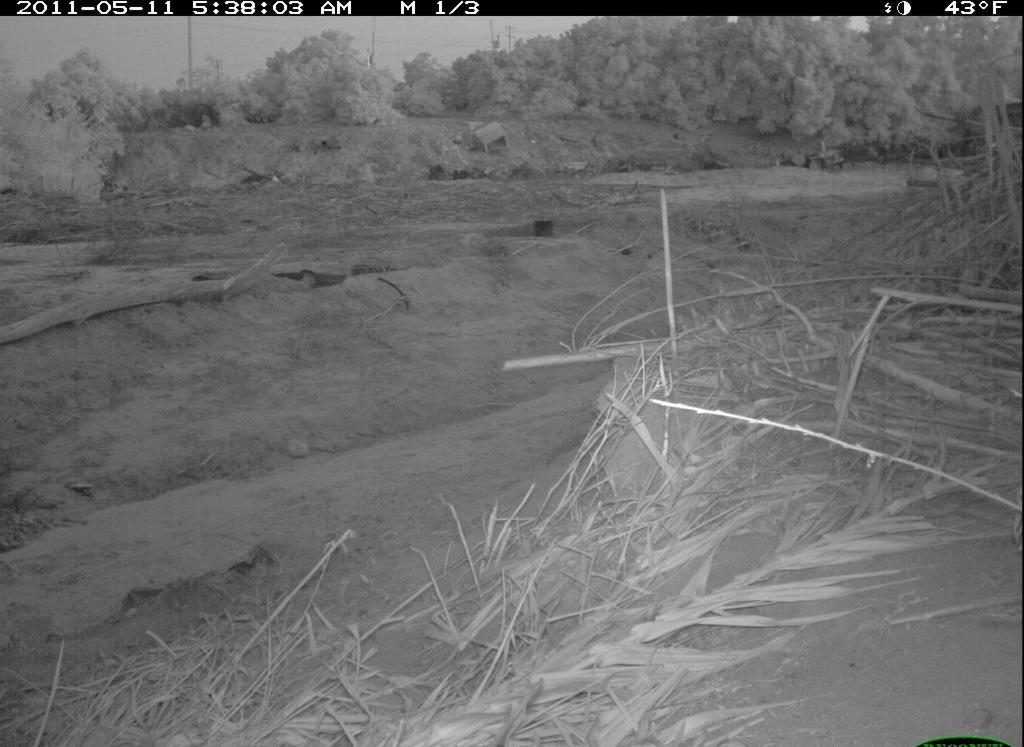rabbit: (49, 493, 313, 673)
